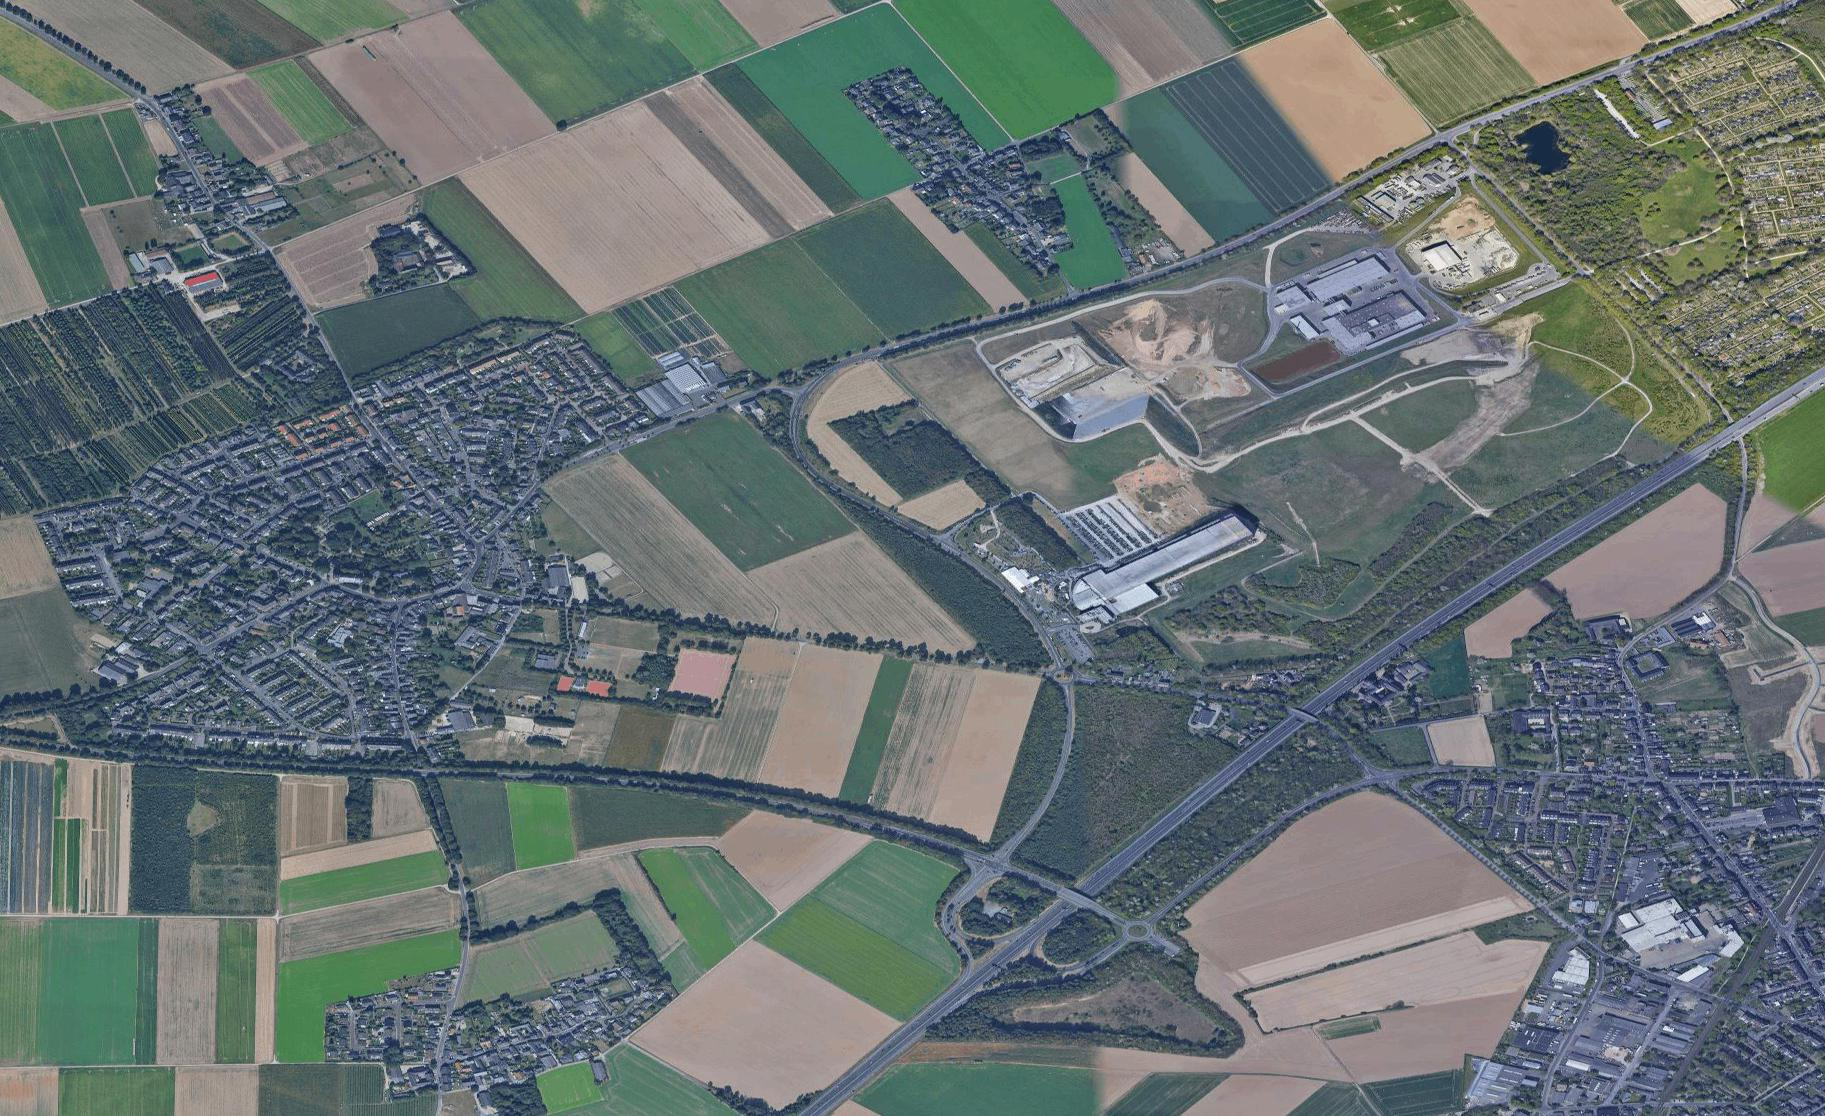industrial: (1042, 498, 1261, 634), (1264, 239, 1431, 373)
motorway: (1473, 467, 1663, 595), (812, 973, 976, 1116), (971, 837, 1135, 980), (1133, 707, 1297, 850), (1294, 587, 1473, 718), (1669, 365, 1825, 471)
